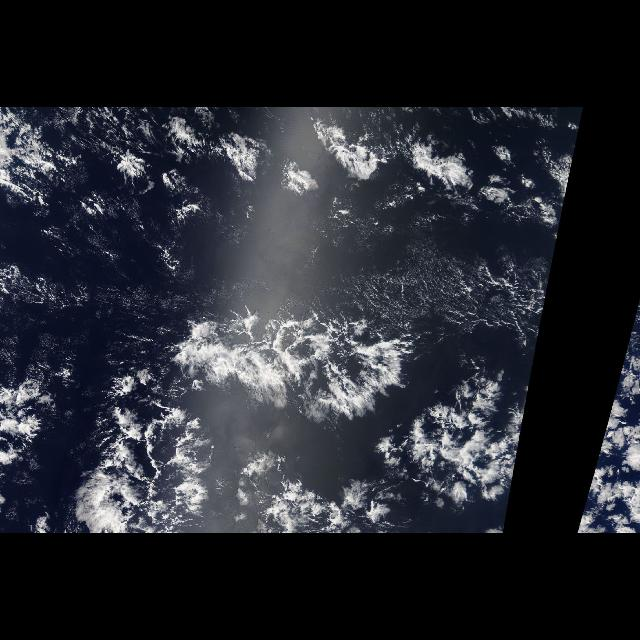Fish: (2, 266, 524, 532)
Flower: (96, 117, 524, 210)
Gravel: (102, 368, 218, 526)
Sugar: (333, 255, 543, 335)
